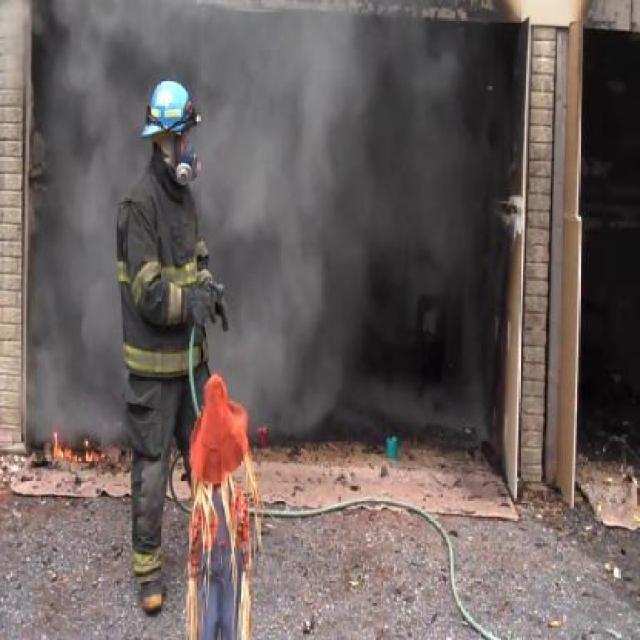smoke: (16, 22, 556, 484)
